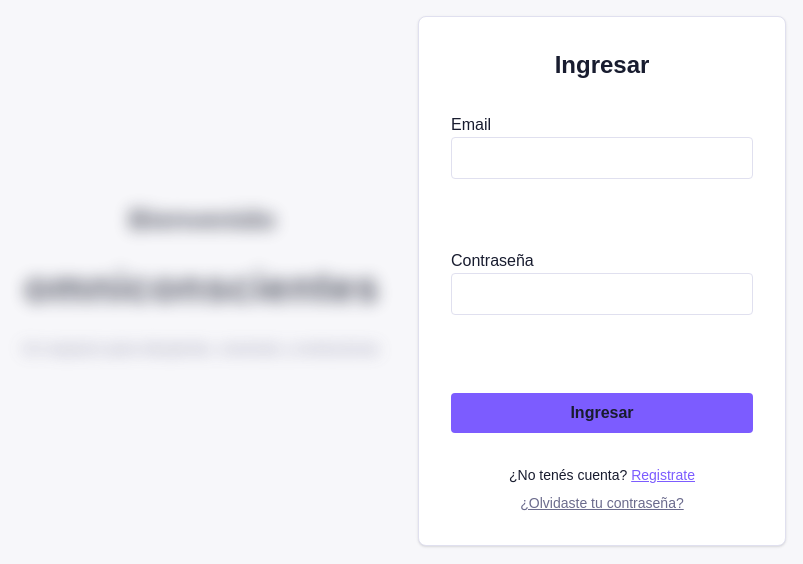
Test case: AuthForm › Login Form › should validate password length
The width and height of the screenshot is (803, 564).
Step 1. Type "test@example.com" into the field with test id "email-input" → (602, 158), box 451,137 -> 753,179
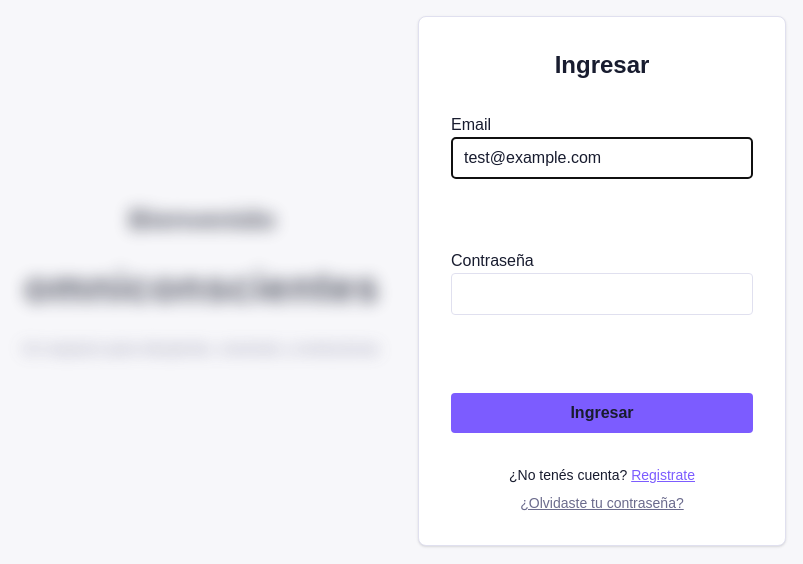
Step 2. Type "12345" into the password field with test id "password-input" → (602, 294), box 451,273 -> 753,315
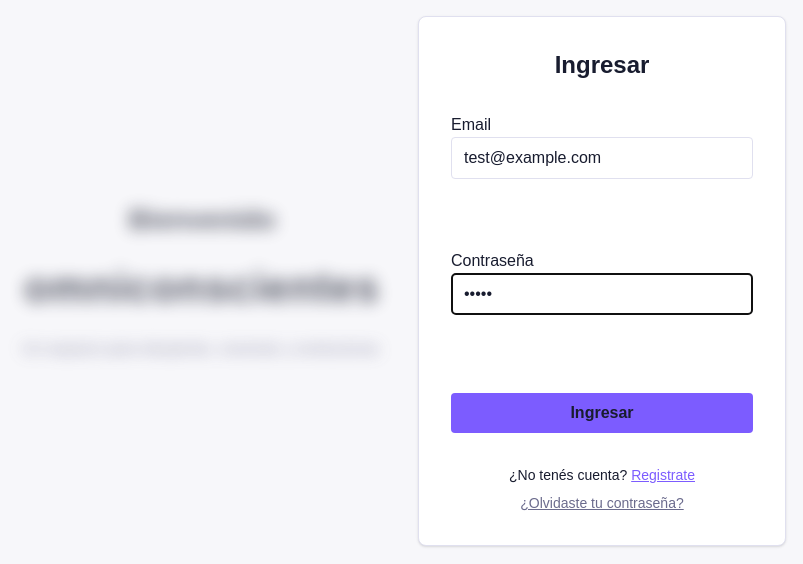
Step 3. Click the button with test id "submit-button" → (602, 413), box 451,393 -> 753,433
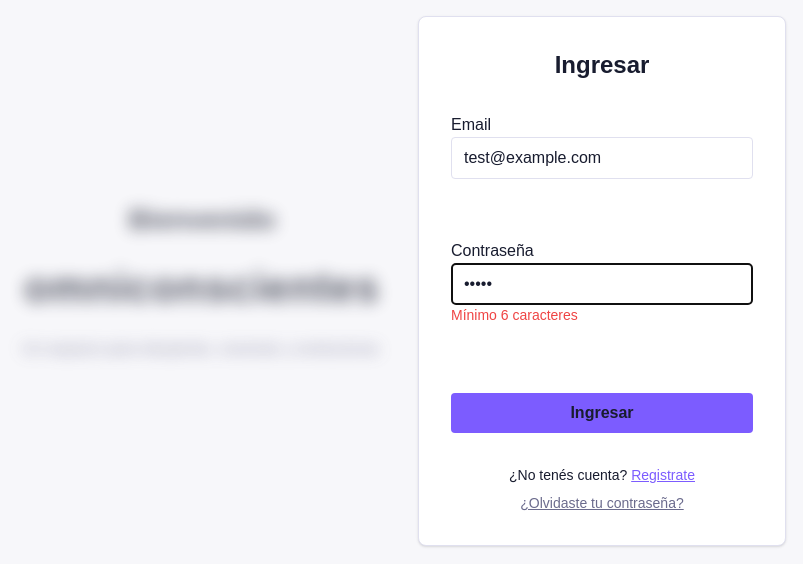
Now the text with test id "error-password" reads "Mínimo 6 caracteres", box 451,307 -> 578,323
